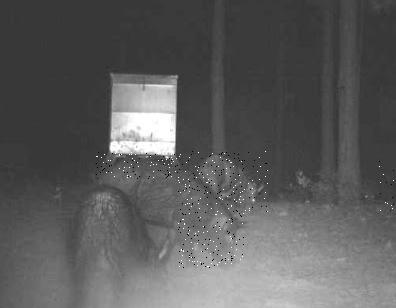Hog: (96, 151, 244, 268), (72, 179, 178, 308), (199, 151, 268, 212), (379, 161, 396, 217)
